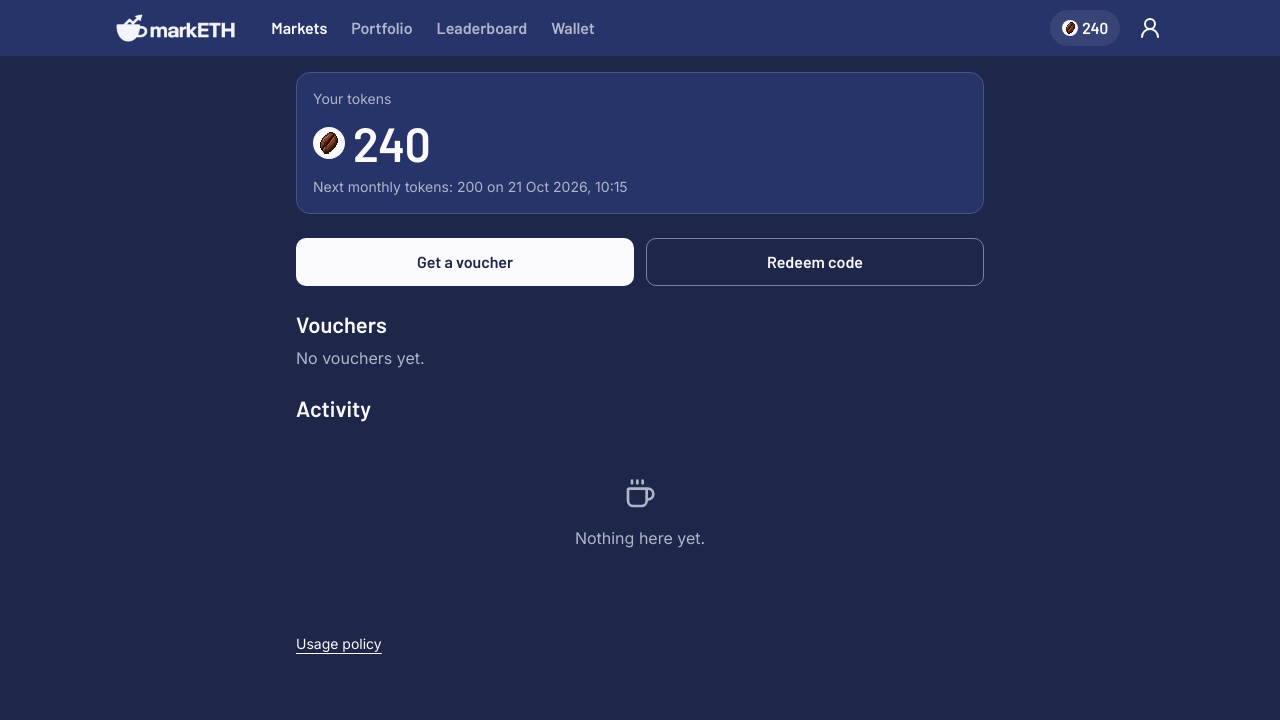
it: the close cross of the Wallet's sheets (wide) › 'Get a voucher' after a refusal: the cross closes the sheet
The image size is (1280, 720).
Click the button "Get a voucher".
click(465, 262)  # box [296, 238, 634, 286]
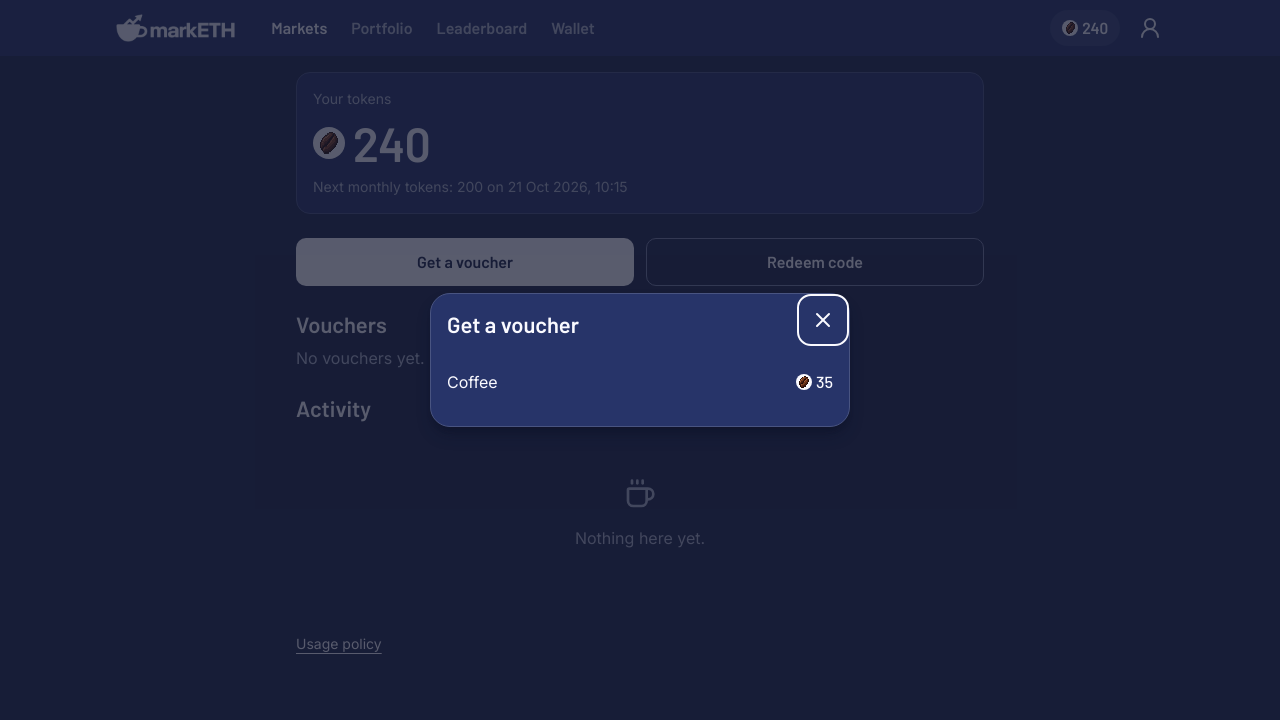
Click the button "Coffee 35".
click(472, 382)  # box [447, 354, 833, 410]
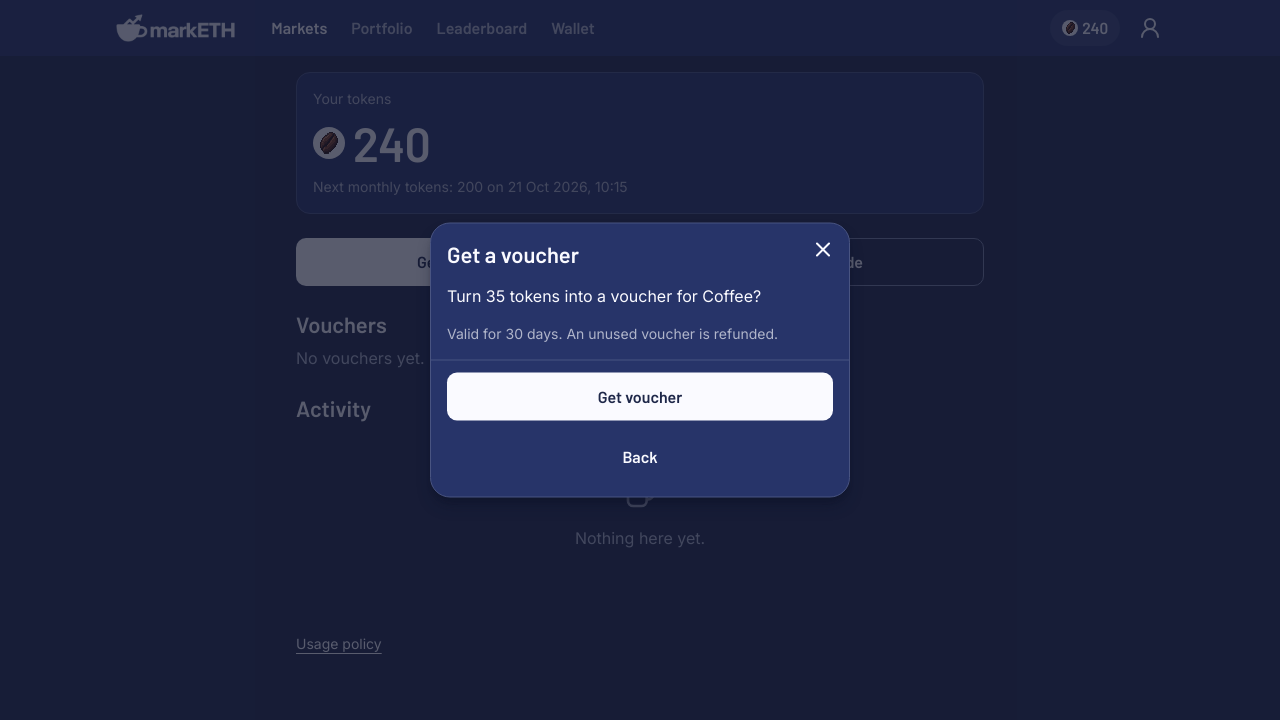
Click the button "Get voucher".
click(640, 396)  # box [447, 372, 833, 420]
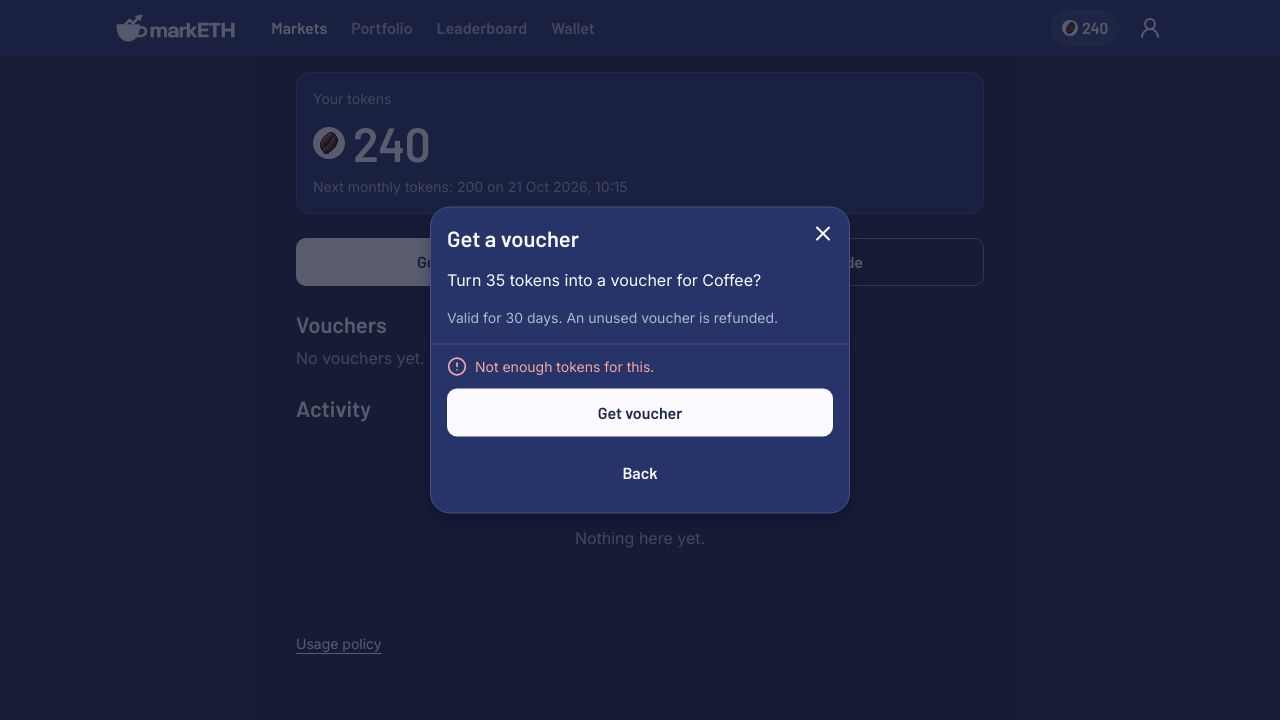
Result: the 1st icon is shown at [811, 222, 835, 246]
Result: the text "Not enough tokens for this." is shown at [475, 356, 654, 376]
Click the button named "Close".
click(823, 234)  # box [801, 212, 845, 256]
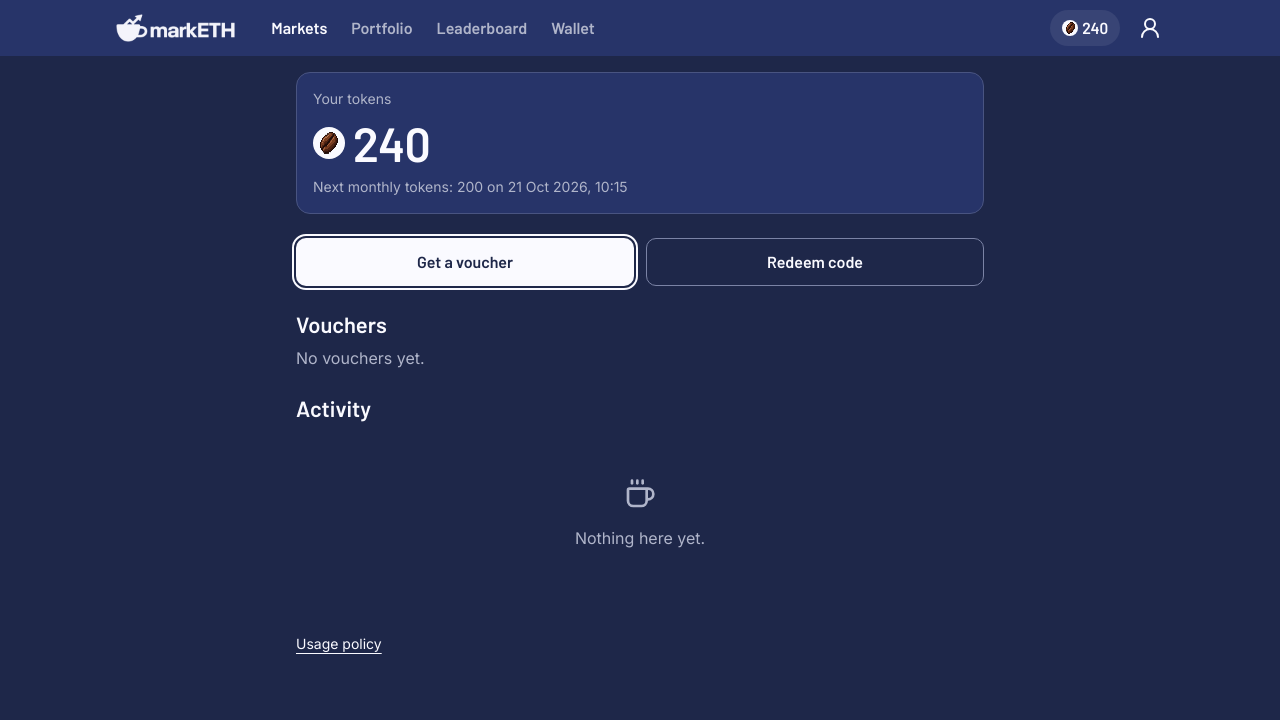
Result: the dialog is gone
